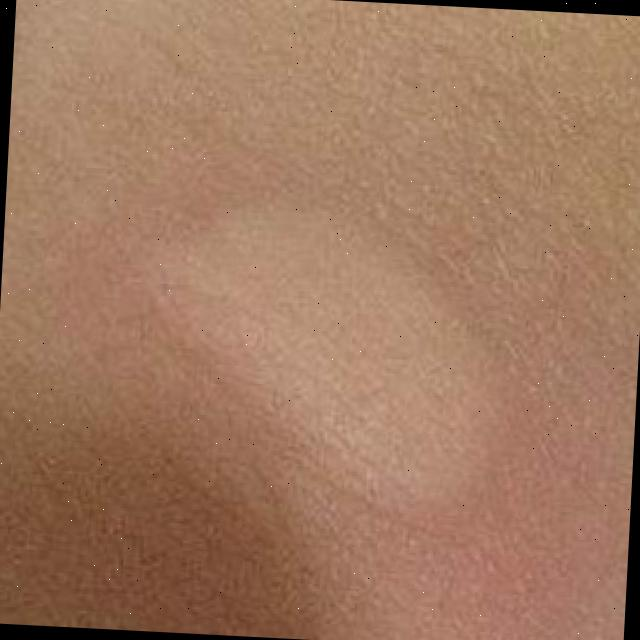sinek: (96, 157, 606, 559)
